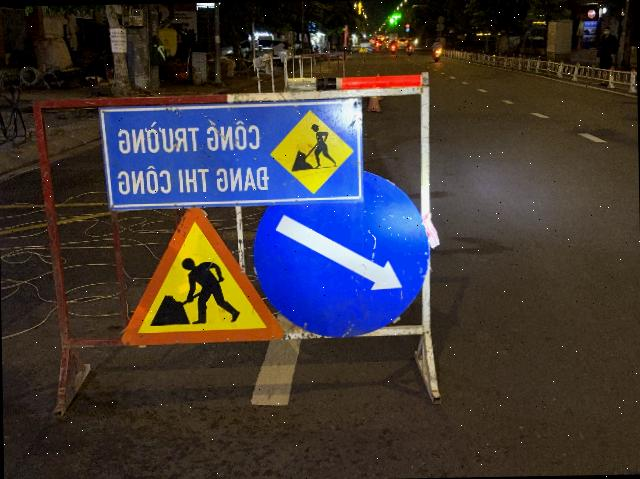cong-truong-dang-thi-cong: (119, 203, 284, 346)
huong-phai-di-vong-chuong-ngai-vat: (251, 168, 431, 340)
